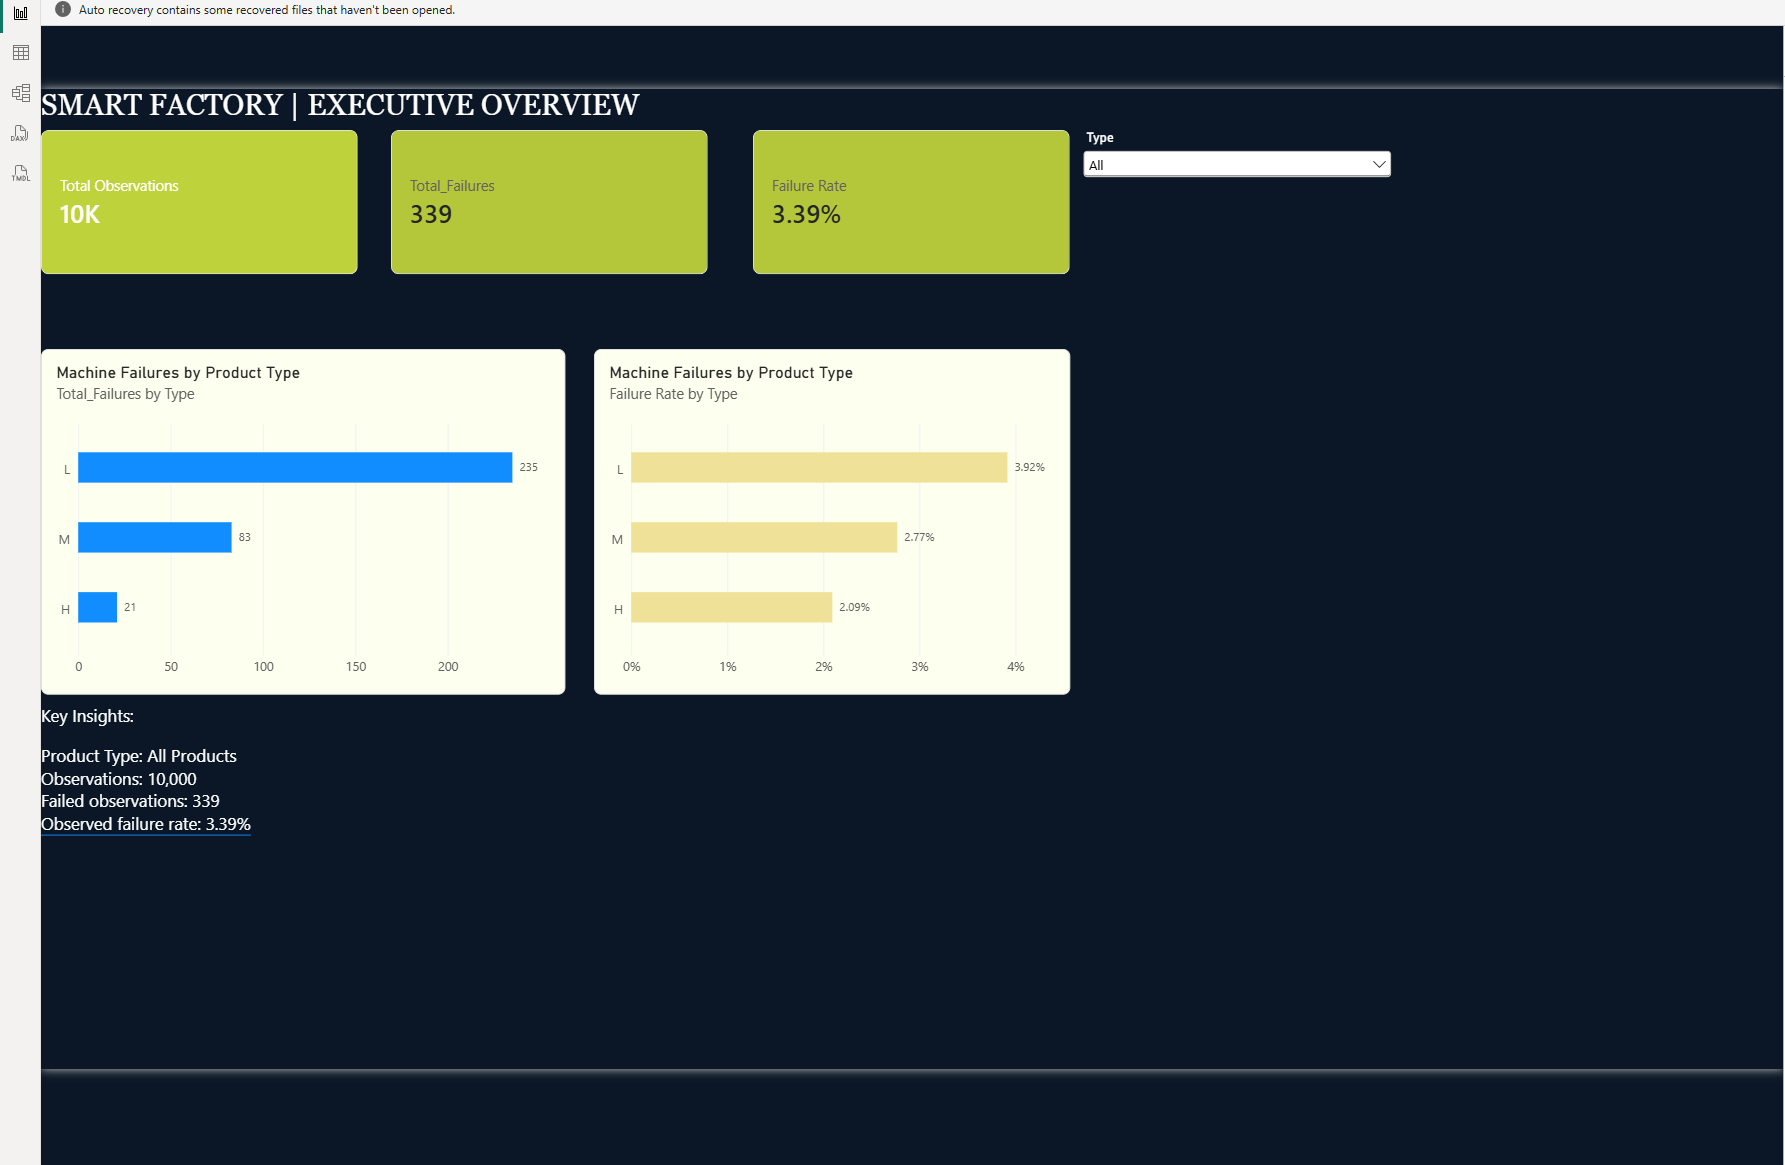

What the dashboard file says about the page in this screenshot:
{"tool":"powerbi","page":{"name":"Executive Overview","canvas":[1920,1080],"ordinal":0},"visuals":[{"type":"cardVisual","fields":{"Data":["MachineObservations.Total Observations"]},"box":[0,45.2,349.5,159.8],"z":0},{"type":"cardVisual","fields":{"Data":["MachineObservations.Total_Failures"]},"box":[385.8,45.2,349.5,159.8],"z":1000},{"type":"cardVisual","fields":{"Data":["MachineObservations.Failure Rate"]},"box":[784.8,45.2,349.5,159.8],"z":2000},{"type":"slicer","fields":{"Values":["DimProductType.Type"]},"box":[1144.1,45.2,349,241],"z":3000},{"type":"clusteredBarChart","title":"Machine Failures by Product Type","fields":{"Category":["DimProductType.Type"],"Y":["MachineObservations.Total_Failures"]},"box":[0,286.6,577.5,381.4],"z":4000},{"type":"clusteredBarChart","title":"Machine Failures by Product Type","fields":{"Category":["DimProductType.Type"],"Y":["MachineObservations.Failure Rate"]},"box":[609.5,286.6,524.6,381.4],"z":5000},{"type":"textbox","box":[0,0,724.1,90.4],"z":5001},{"type":"textbox","box":[0,678,578,381],"z":5002}]}

Visuals, with their boxes on the page's 1920x1080 design canvas (x1, y1, x2, y2). These are canvas units, not pixel positions in the 1785x1165 screenshot, which may show the page scaled, cropped or inside an application window:
cardVisual - MachineObservations.Total Observations: bbox(0, 45, 350, 205)
cardVisual - MachineObservations.Total_Failures: bbox(386, 45, 735, 205)
cardVisual - MachineObservations.Failure Rate: bbox(785, 45, 1134, 205)
slicer - DimProductType.Type: bbox(1144, 45, 1493, 286)
"Machine Failures by Product Type" clusteredBarChart: bbox(0, 287, 578, 668)
"Machine Failures by Product Type" clusteredBarChart: bbox(610, 287, 1134, 668)
textbox: bbox(0, 0, 724, 90)
textbox: bbox(0, 678, 578, 1059)
